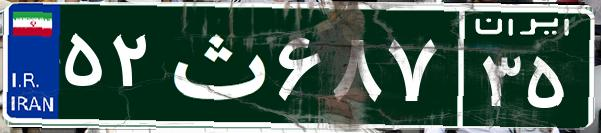2: (110, 28, 158, 105)
3: (475, 38, 525, 113)
5: (57, 26, 110, 107), (525, 38, 570, 115)
6: (273, 28, 330, 110)
7: (385, 28, 445, 110)
8: (330, 28, 385, 110)
ث: (158, 15, 273, 115)
